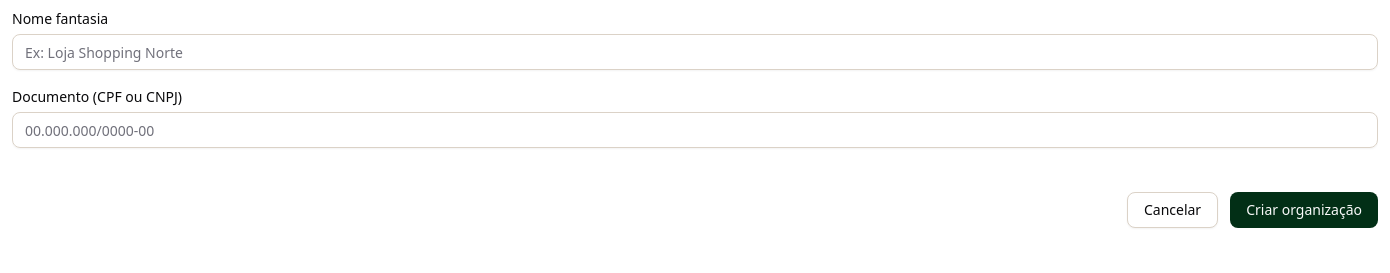
Test: CreateOrgForm › exibe erro de validação ao submeter com nome vazio (caminho de falha)
This screenshot has width=1390, height=273.
Step 1. Click the button "Criar organização" → [1304, 210], box [1230,192,1378,228]
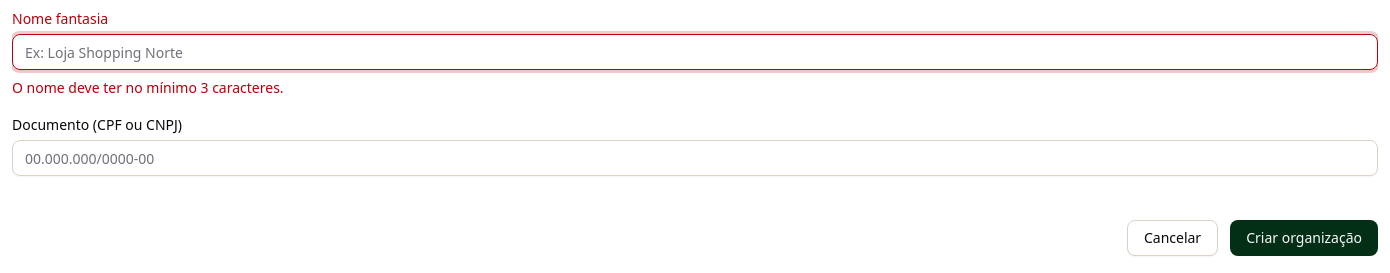
Expected: the text "O nome deve ter no mínimo 3 caracteres." is shown, [12,78,284,97]
